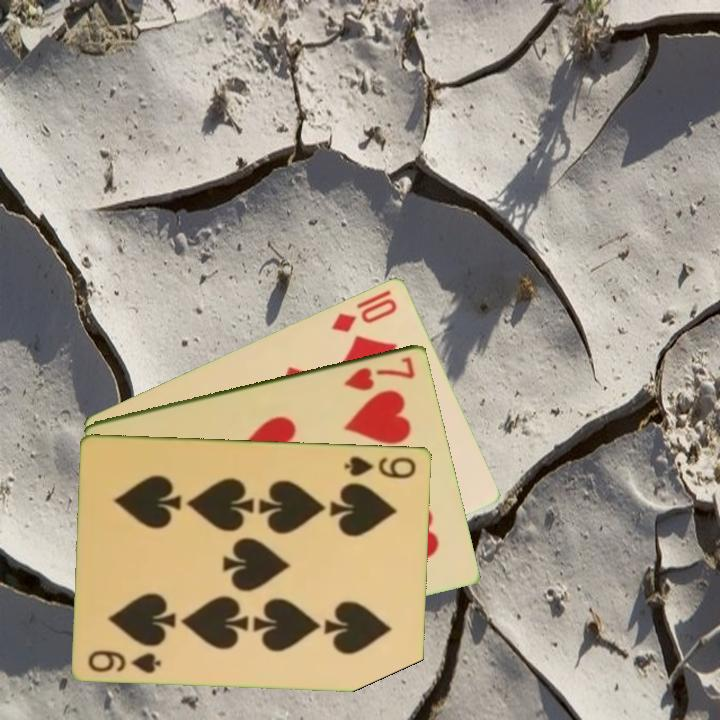10d: (328, 294, 400, 335)
7h: (340, 352, 418, 393)
9s: (85, 646, 164, 676), (342, 452, 419, 481)
